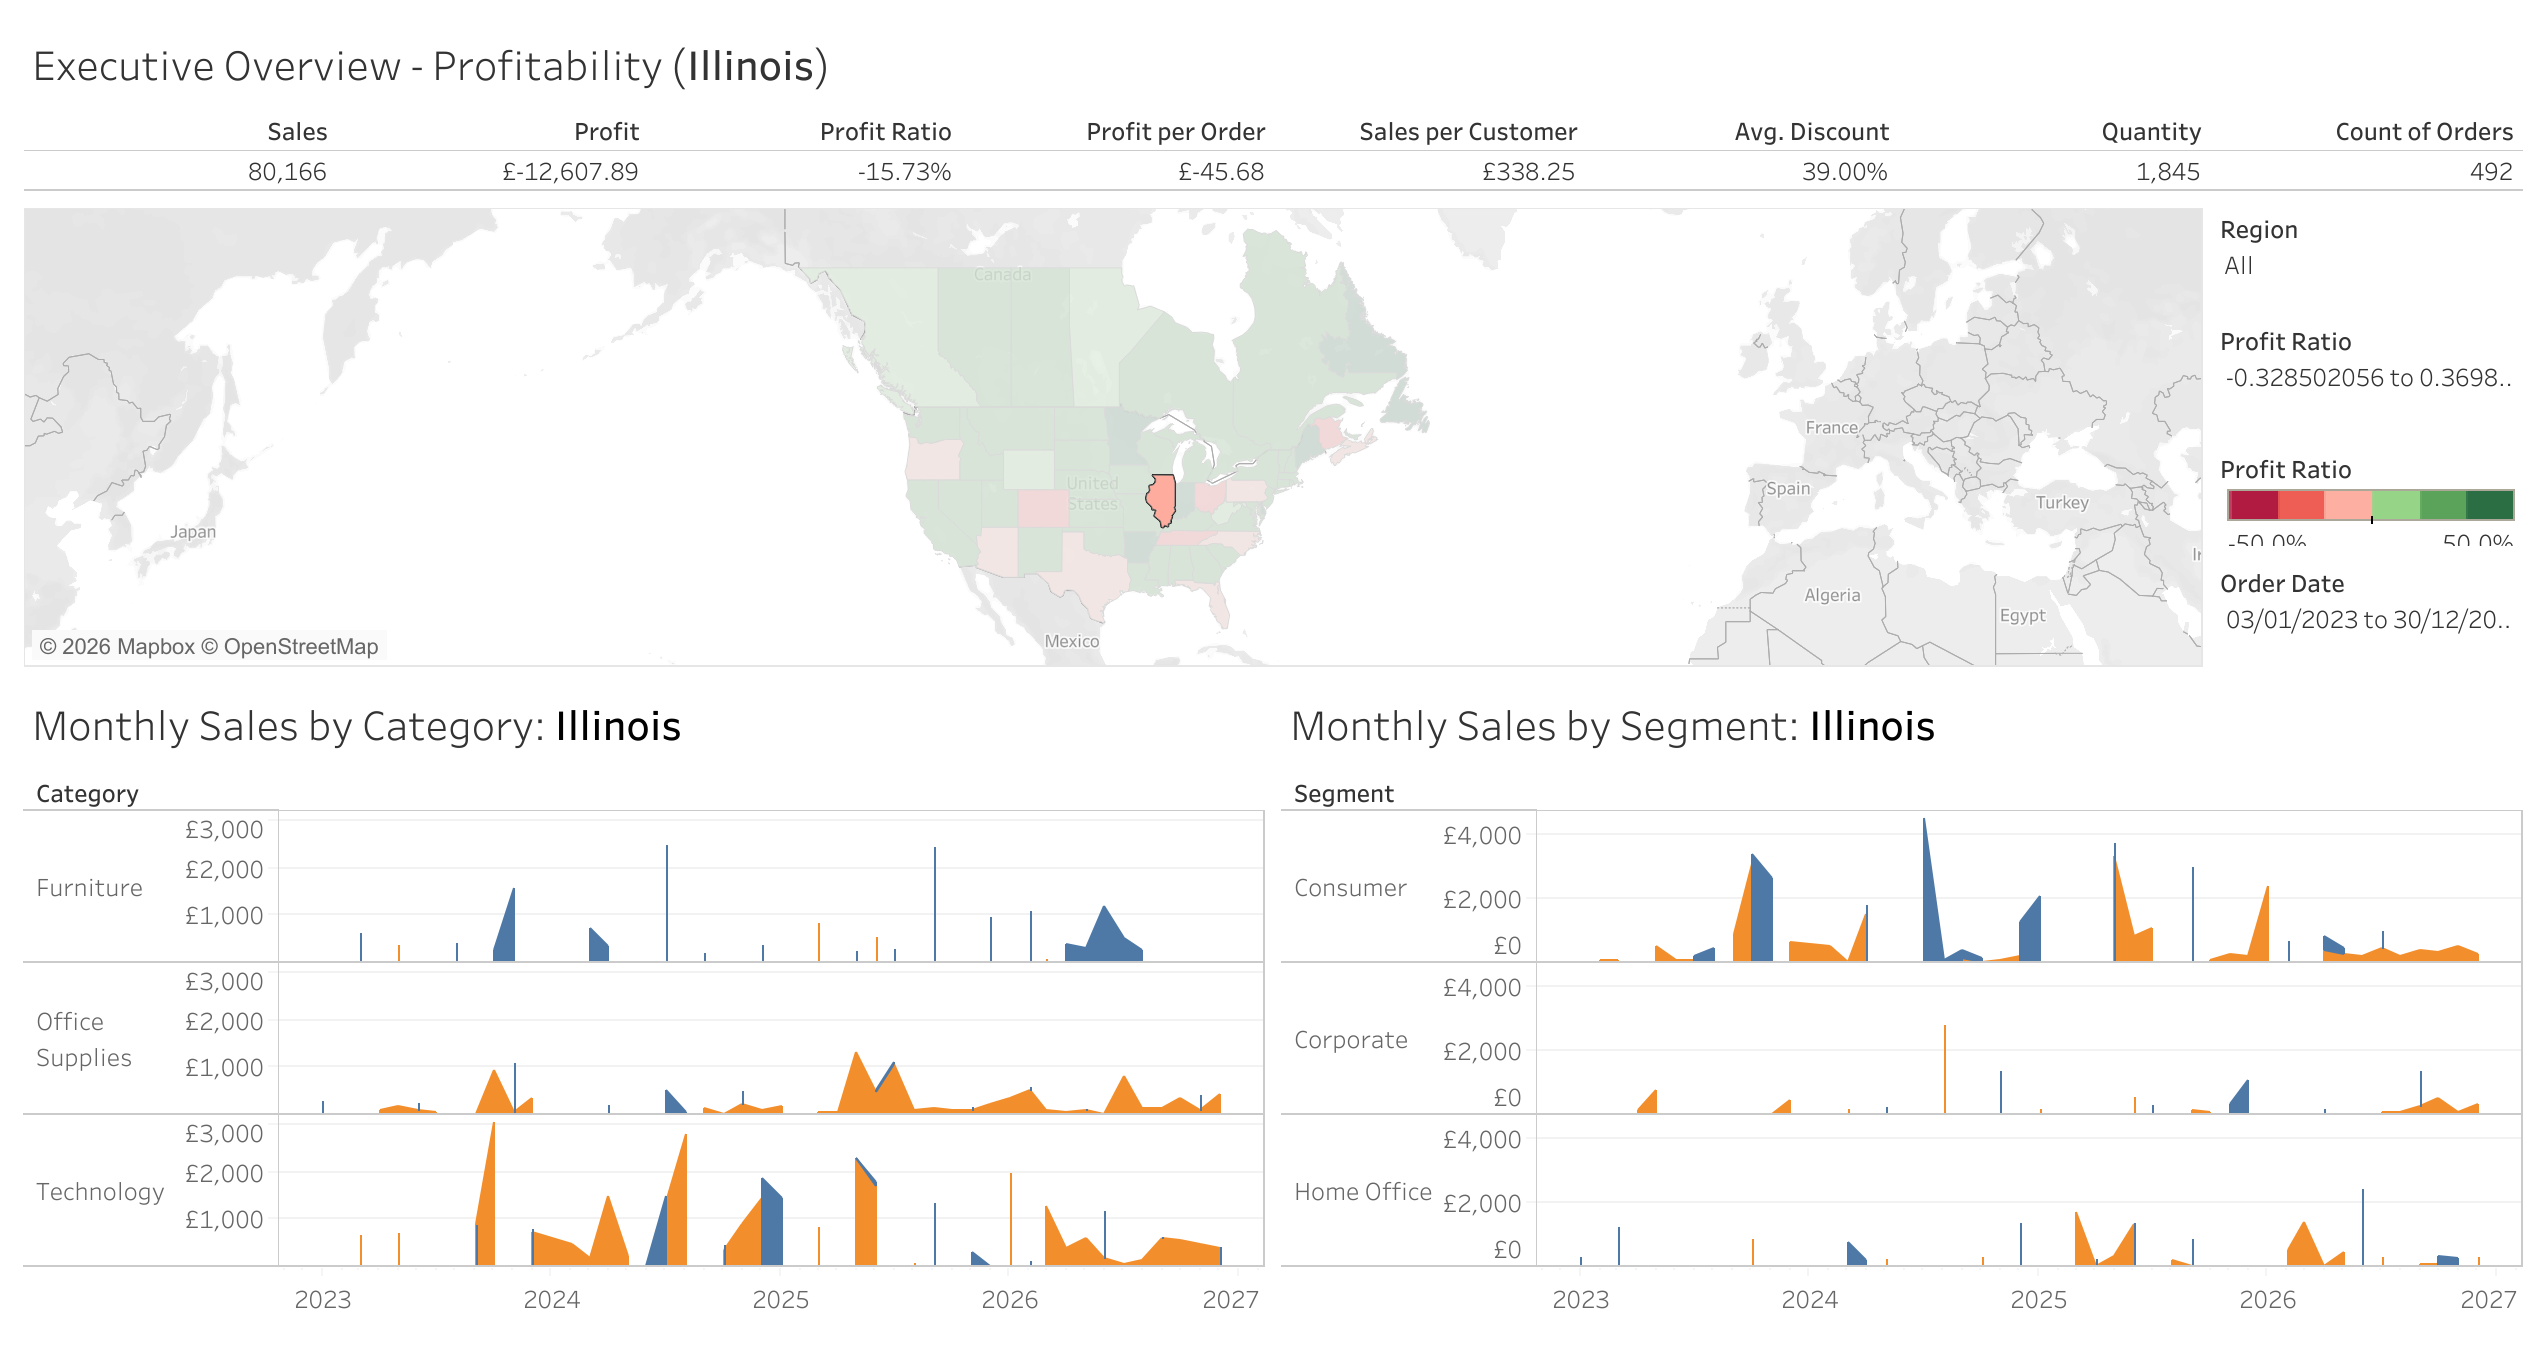

The page's visual inventory and layout, read from the dashboard file:
{"tool":"tableau","page":{"name":"Executive Overview","canvas":[1000,1000],"units":"permille","ordinal":0},"visuals":[{"type":"worksheet","title":"Key Performance Indicators","mark":"Automatic","box":[6.6,11.8,986.8,135.1]},{"type":"worksheet","title":"Profit Ratio by Geography","mark":"Automatic","box":[6.6,146.8,854.4,353.2]},{"type":"filter","title":"Profit Ratio by Geography","param":"[federated.1xrb1ig0scf6ov1fjsrsw0xfbv0v].[none:Region:nk]","box":[861,146.8,132.3,82.2]},{"type":"filter","title":"Profit Ratio by Geography","param":"[federated.1xrb1ig0scf6ov1fjsrsw0xfbv0v].[usr:Calculation_0014784156213293:qk]","box":[861,229.1,132.3,90.3]},{"type":"legend","title":"Profit Ratio by Geography","param":"[federated.1xrb1ig0scf6ov1fjsrsw0xfbv0v].[usr:Calculation_0014784156213293:qk]","box":[861,319.4,132.3,90.3]},{"type":"filter","title":"Sales by Category","param":"[federated.1xrb1ig0scf6ov1fjsrsw0xfbv0v].[none:Order Date:qk]","box":[861,409.7,132.3,90.3]},{"type":"worksheet","title":"Sales by Category","mark":"Area","rows":["Category","Sales"],"cols":["Order Date"],"box":[6.6,500,493.4,488.2]},{"type":"worksheet","title":"Sales by Segment","mark":"Area","rows":["Segment","Sales"],"cols":["Order Date"],"box":[500,500,493.4,488.2]}]}

Visuals, with their boxes on the dashboard's canvas, which has no fixed pixel size, in thousandths of its width and height (x1, y1, x2, y2). These are canvas units, not pixel positions in the 2546x1350 screenshot, which may show the page scaled, cropped or inside an application window:
"Key Performance Indicators" worksheet: select_region(7, 12, 993, 147)
"Profit Ratio by Geography" worksheet: select_region(7, 147, 861, 500)
"Profit Ratio by Geography" filter: select_region(861, 147, 993, 229)
"Profit Ratio by Geography" filter: select_region(861, 229, 993, 319)
"Profit Ratio by Geography" legend: select_region(861, 319, 993, 410)
"Sales by Category" filter: select_region(861, 410, 993, 500)
"Sales by Category" worksheet (Area marks): select_region(7, 500, 500, 988)
"Sales by Segment" worksheet (Area marks): select_region(500, 500, 993, 988)
